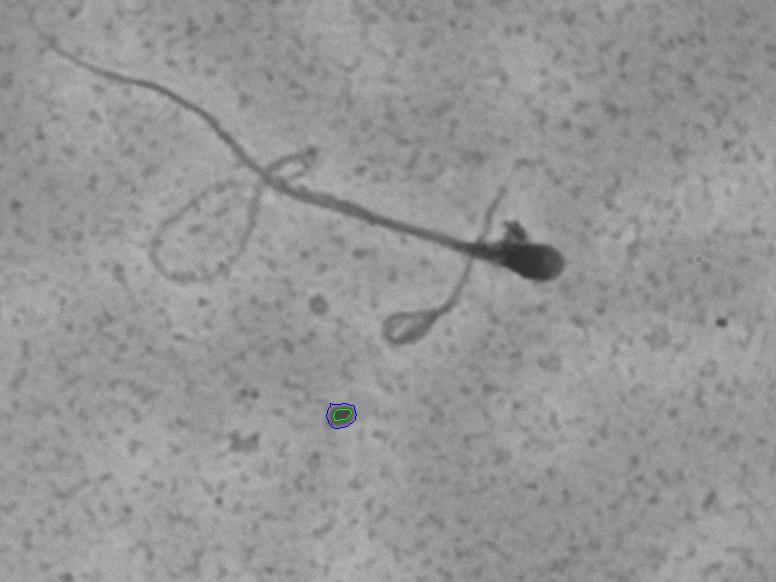Abnormal: (46, 73, 576, 383)
